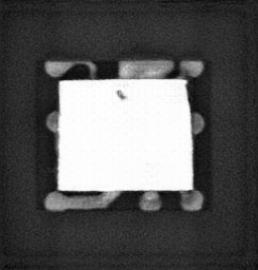DIE_INK: (115, 88, 126, 100)
